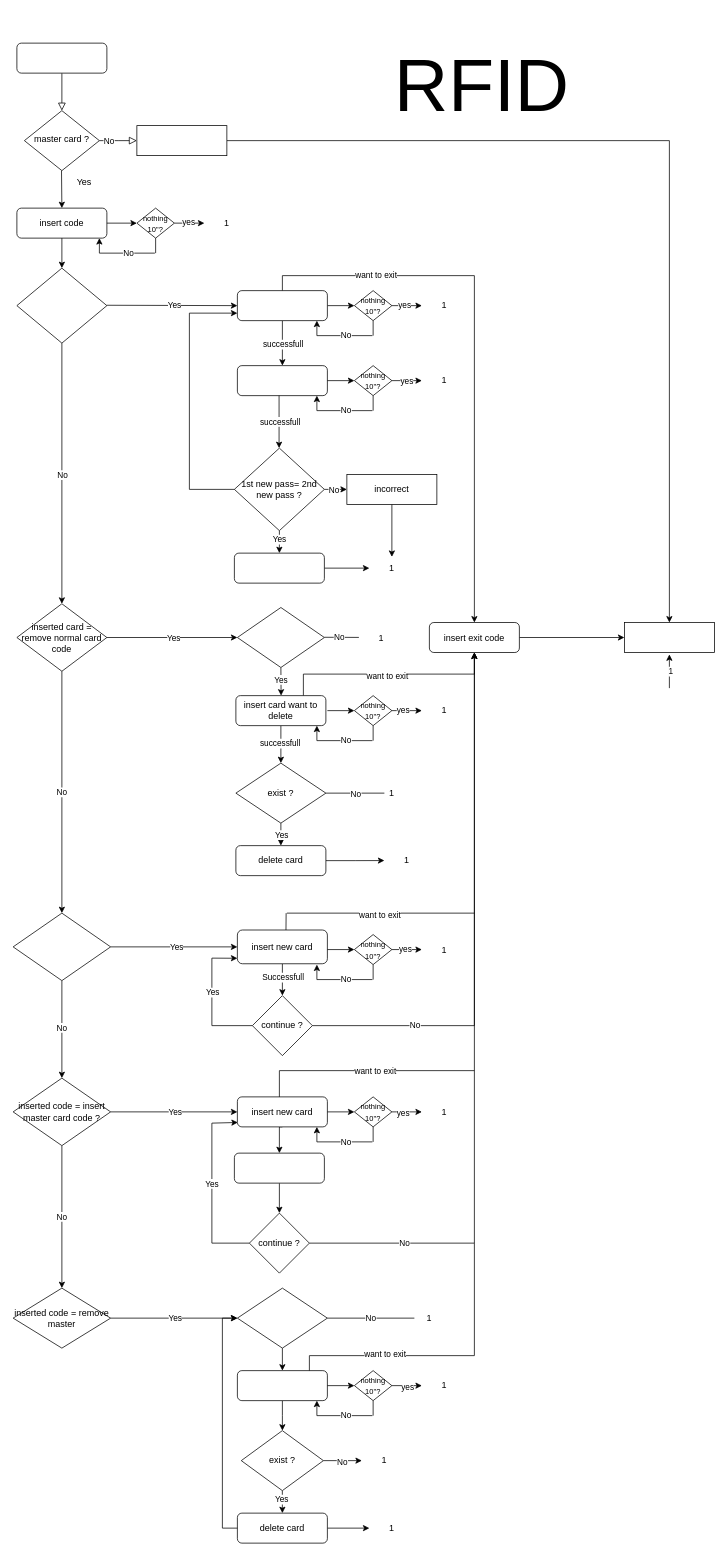
The diagram is 728 pixels wide and 1556 high, and some of its shapes have lost their labels. The shapes that lost their labels are listed below. From the top down, each one's centre as x and y in pixels, then its label:
At point 61,57: "insert card".
At point 181,140: "the lock is opened".
At point 61,305: "inserted code = change pass code?".
At point 282,305: "insert new pass".
At point 282,380: "insert new pass again".
At point 279,567: "change pass".
At point 280,637: "number normal > 0?".
At point 669,637: "Exit".
At point 61,946: "inserted code = insert card code ?".
At point 279,1167: "set the latest inserted master".
At point 282,1317: "number master >1?".
At point 282,1385: "insert master want to delete".
